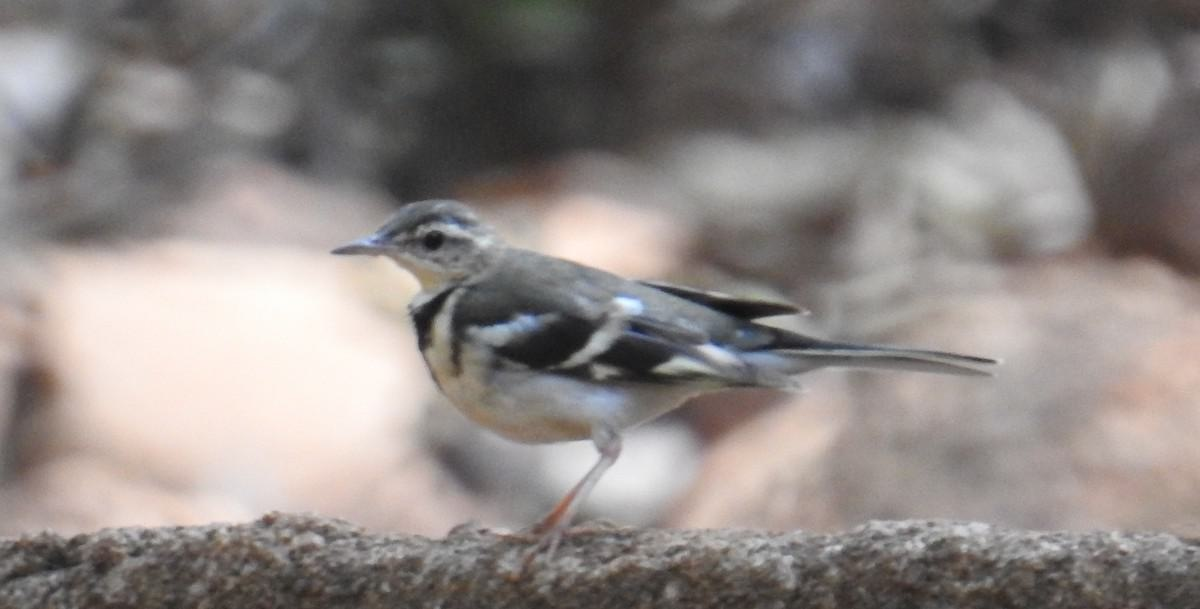wagtail: (328, 190, 889, 535)
